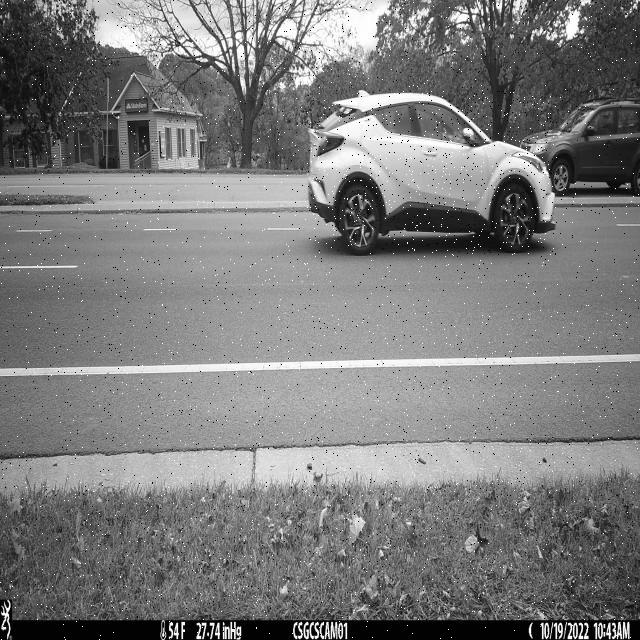SUV: (307, 90, 557, 255)
